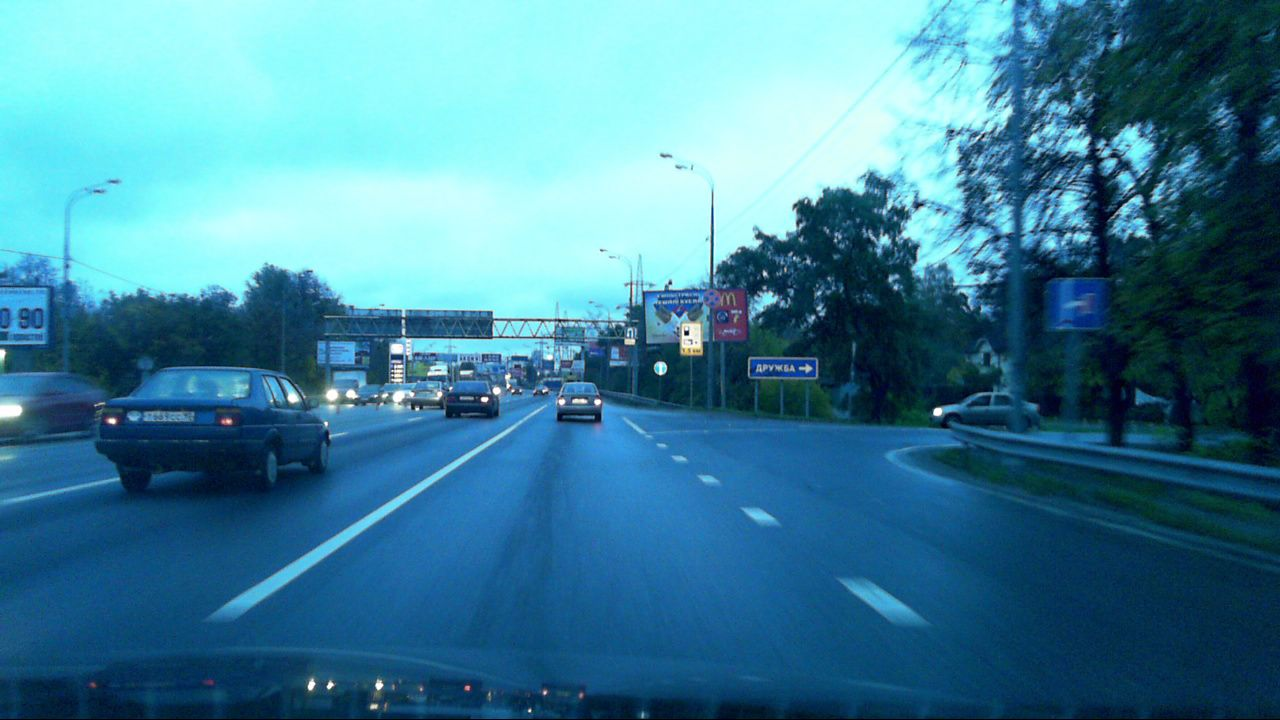No Parking: (702, 289, 722, 308)
